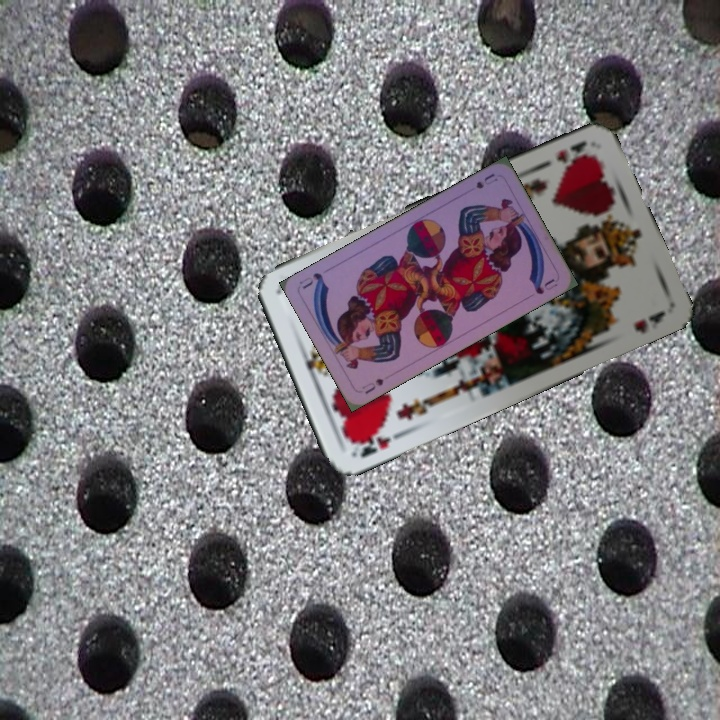HK: (347, 427, 406, 460), (552, 136, 590, 167)
SU: (358, 374, 386, 397), (472, 169, 500, 191)
